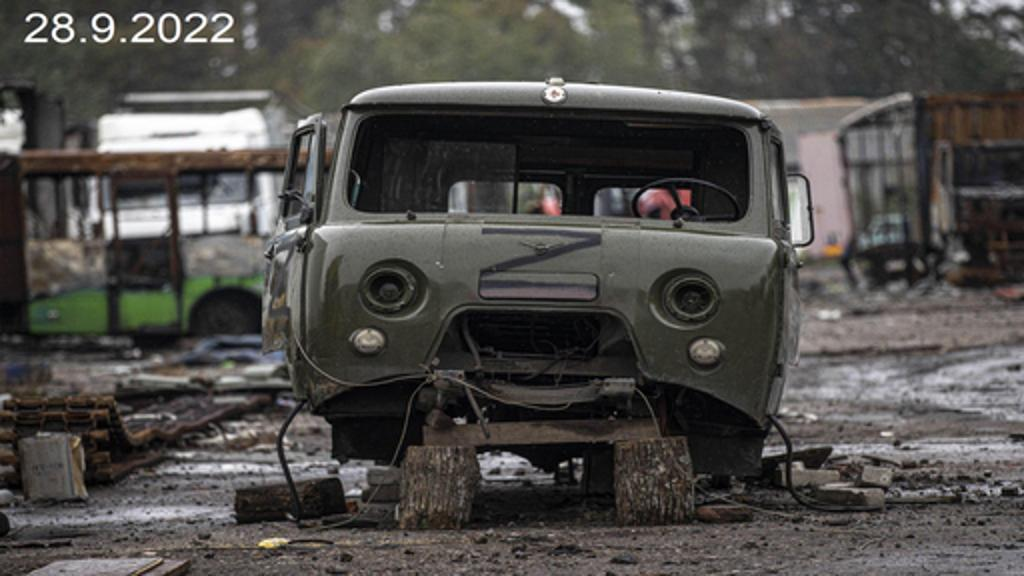CAR: (260, 62, 826, 506)
